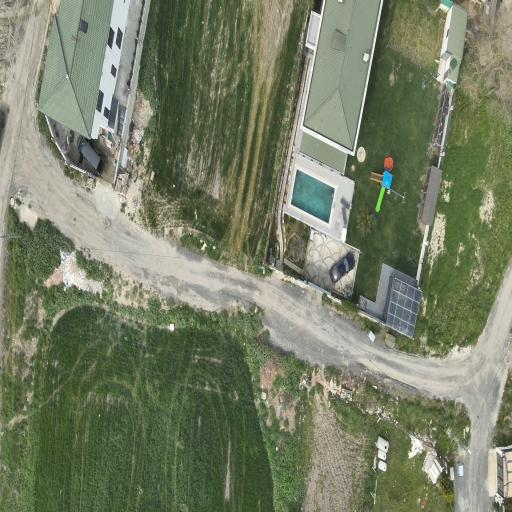car: (77, 135, 102, 170), (330, 252, 355, 283), (0, 110, 5, 135)
